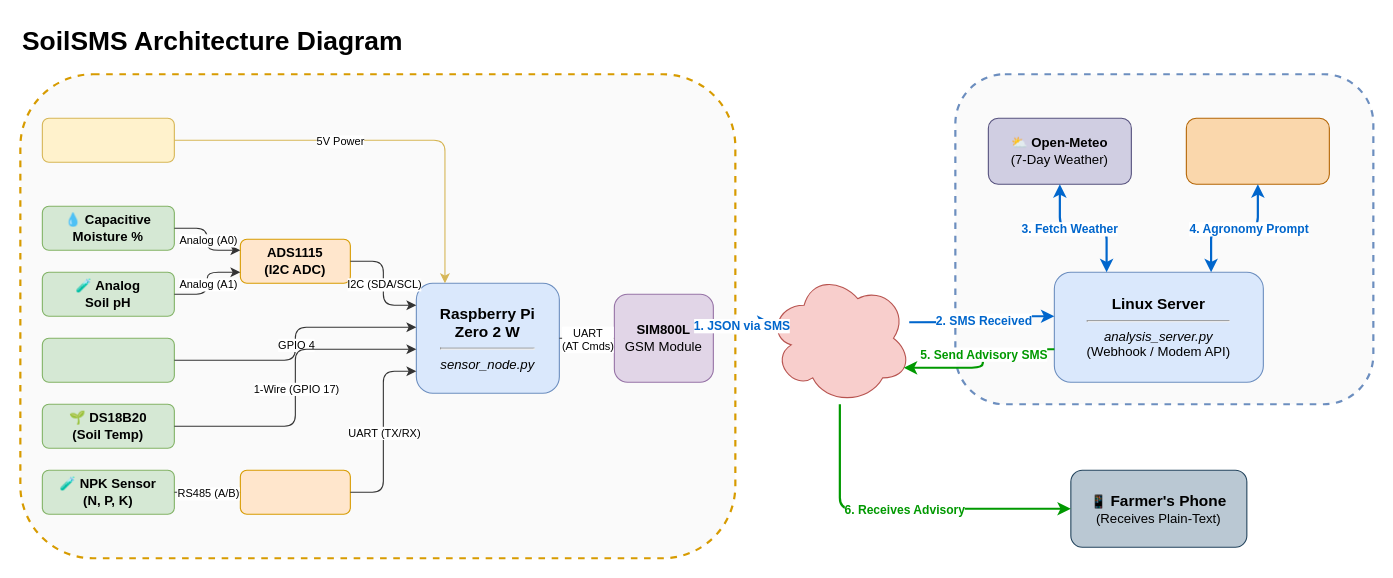
This 1393x578 diagram has some shape labels left out. The shapes that lost their labels are listed below. From the top down, each one's centre as x and y in pixels, then its label:
At [107,139]: "☀️ 12V Solar + Step-down (5V)".
At [1257,150]: "🧠 Claude AI (Agronomy LLM)".
At [839,337]: "📡 2G GSM SMS Network".
At [107,359]: "🌡️ DHT22 (Air Temp/Hum)".
At [294,491]: "MAX485 (RS485 ➔ UART)".
